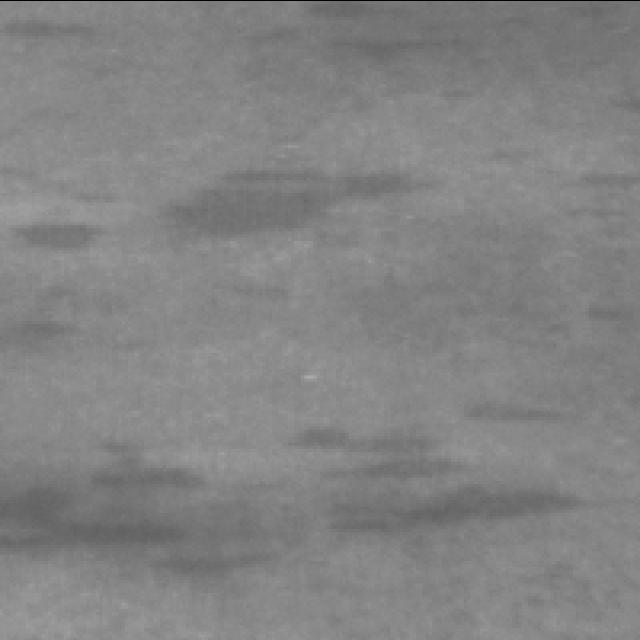inclusion: (6, 462, 298, 595), (131, 148, 433, 250), (312, 457, 578, 552), (303, 17, 497, 84), (9, 186, 121, 280), (456, 382, 590, 456), (280, 417, 444, 455)
